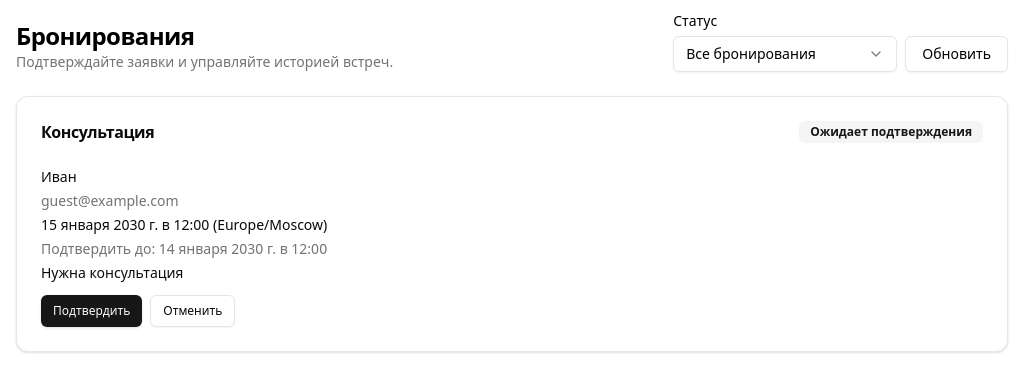
Test: HostBookingsPage › confirms a pending booking
Step 1. Click the button "Подтвердить" → click(92, 311), box [41,295,142,327]
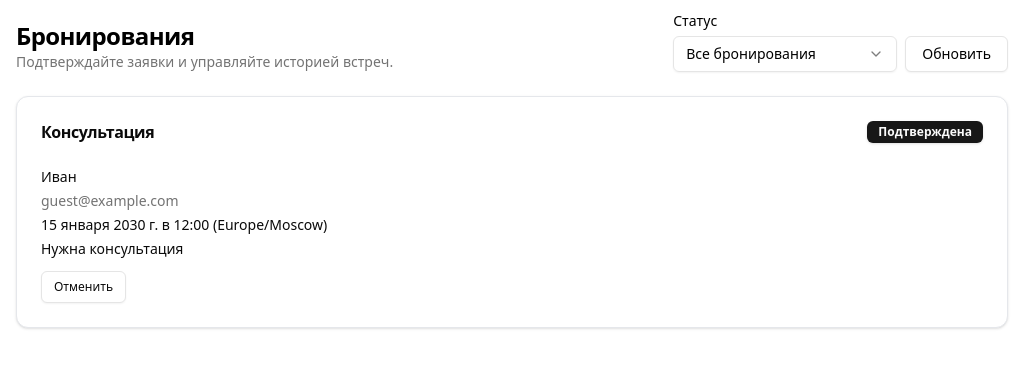
Expected: the text "Подтверждена" is shown, [867,121,983,143]
